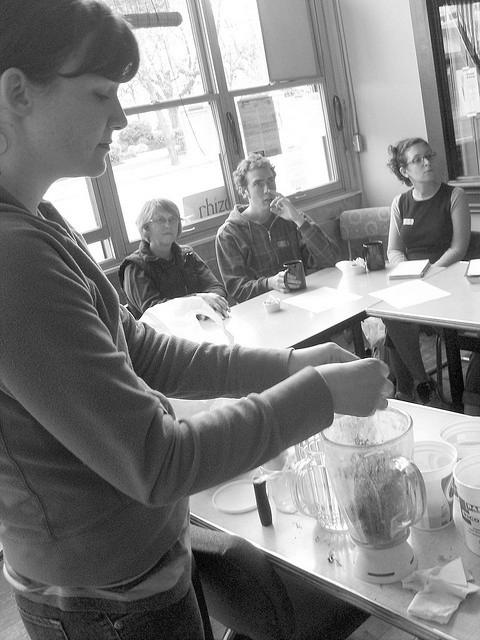cup: (270, 428, 351, 544), (398, 438, 458, 532), (442, 455, 480, 558), (435, 413, 480, 467), (275, 255, 314, 297), (354, 238, 394, 274)
